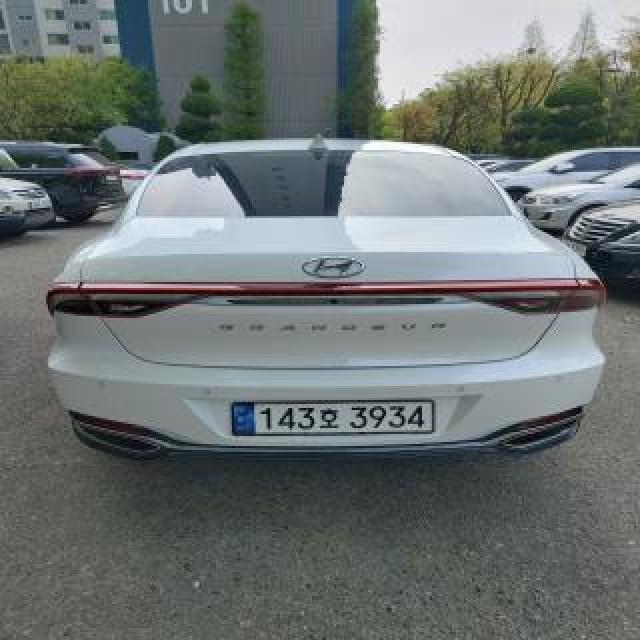car: (41, 130, 608, 483)
illegal_plate: (226, 395, 444, 447)
